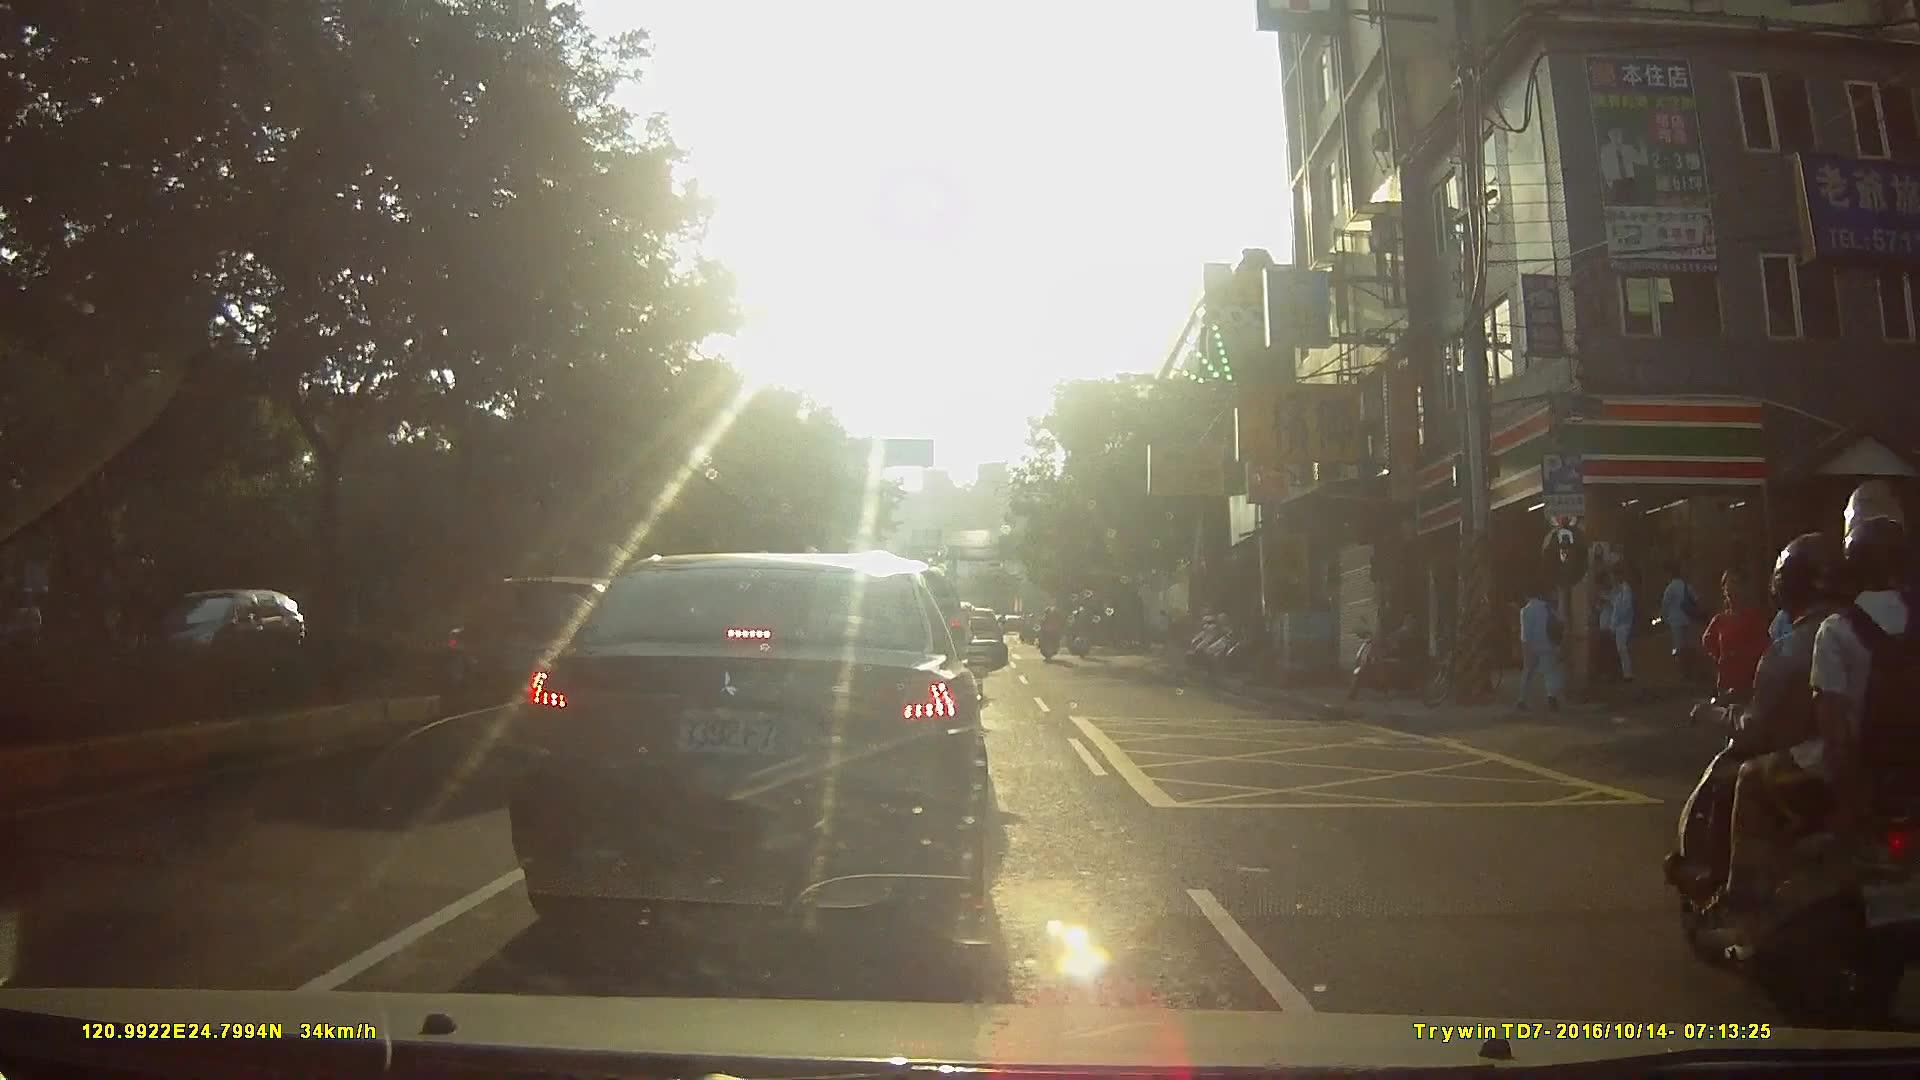pedestrian: (1701, 567, 1774, 808), (1515, 579, 1569, 714), (1591, 567, 1635, 687), (1664, 565, 1705, 676), (1590, 567, 1613, 694)
rider: (1667, 480, 1920, 1029), (1039, 606, 1063, 666), (1067, 609, 1091, 661)
vehicle: (497, 545, 1014, 950), (121, 586, 314, 684)
